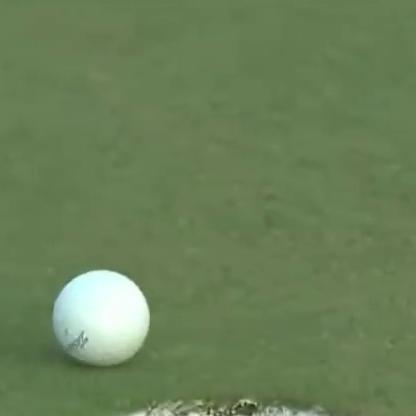golfball: (50, 265, 150, 365)
